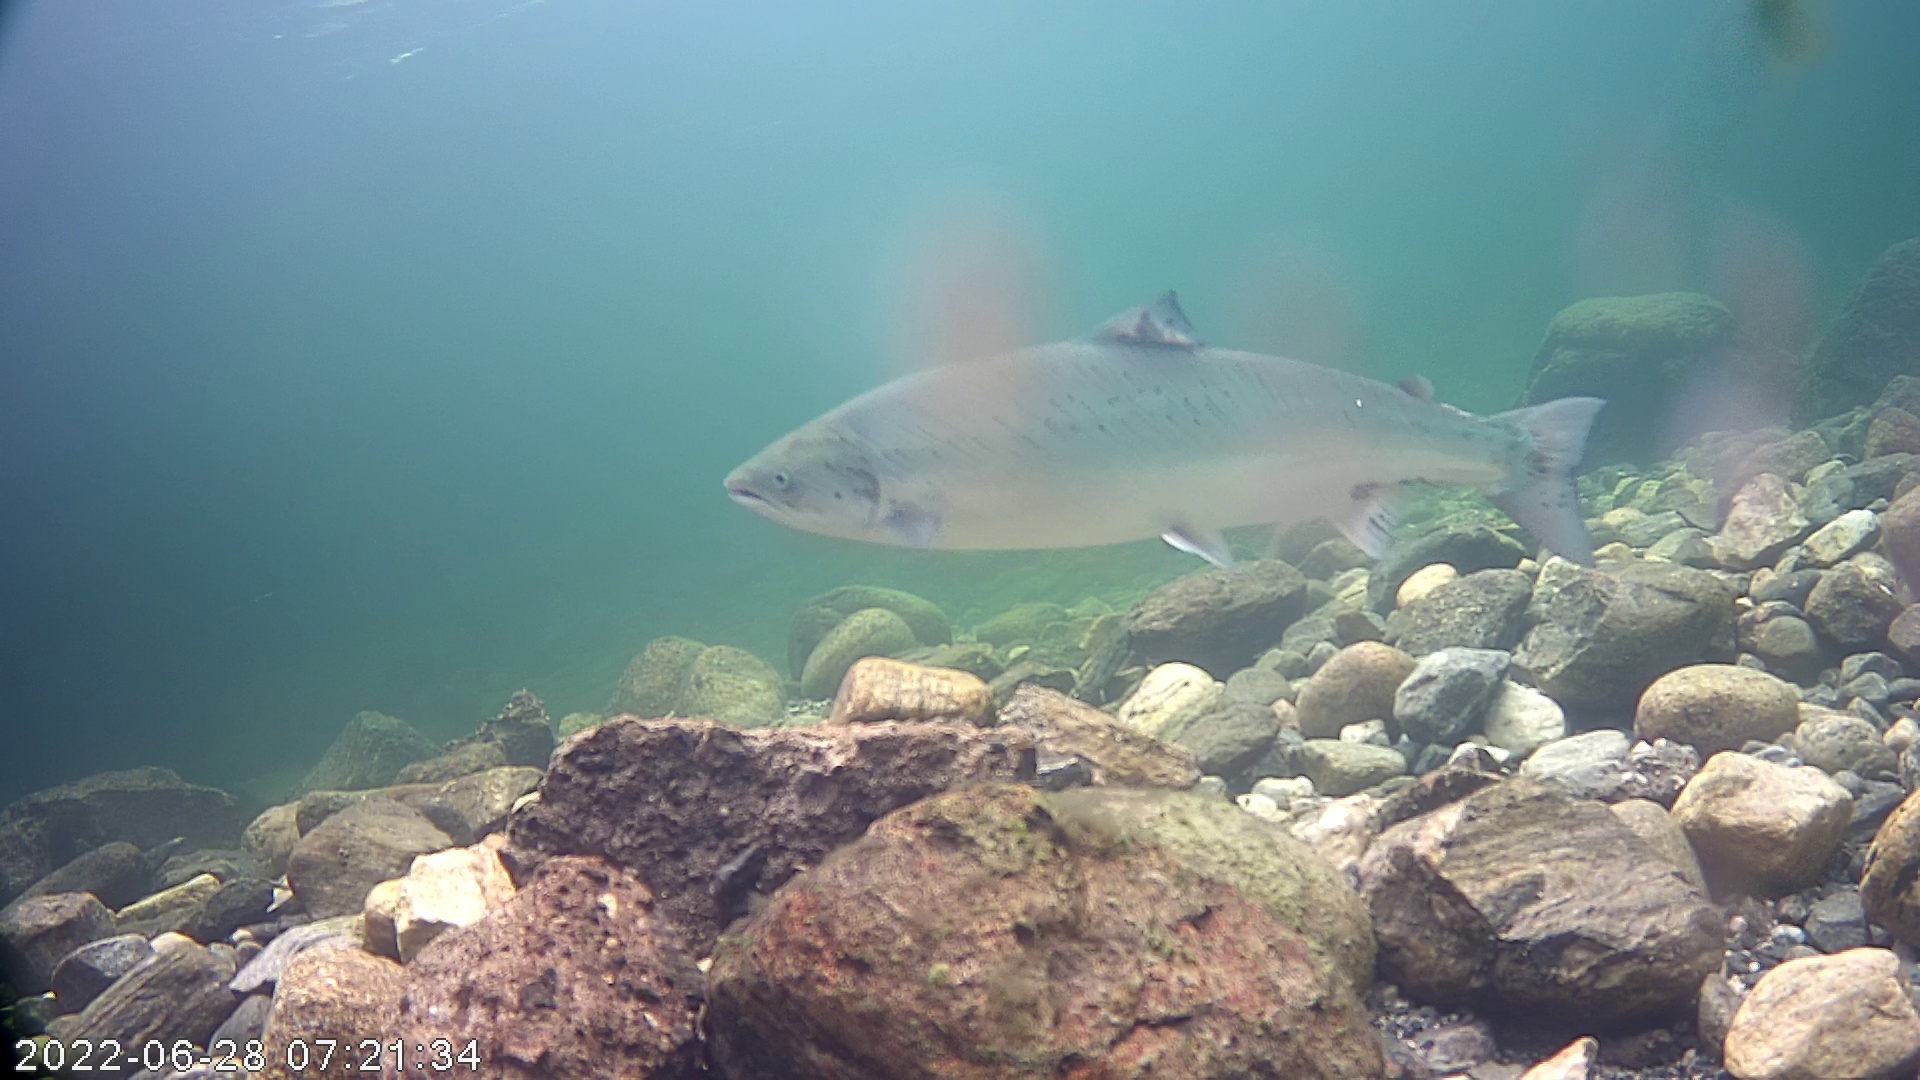salmon: (708, 198, 1629, 626)
